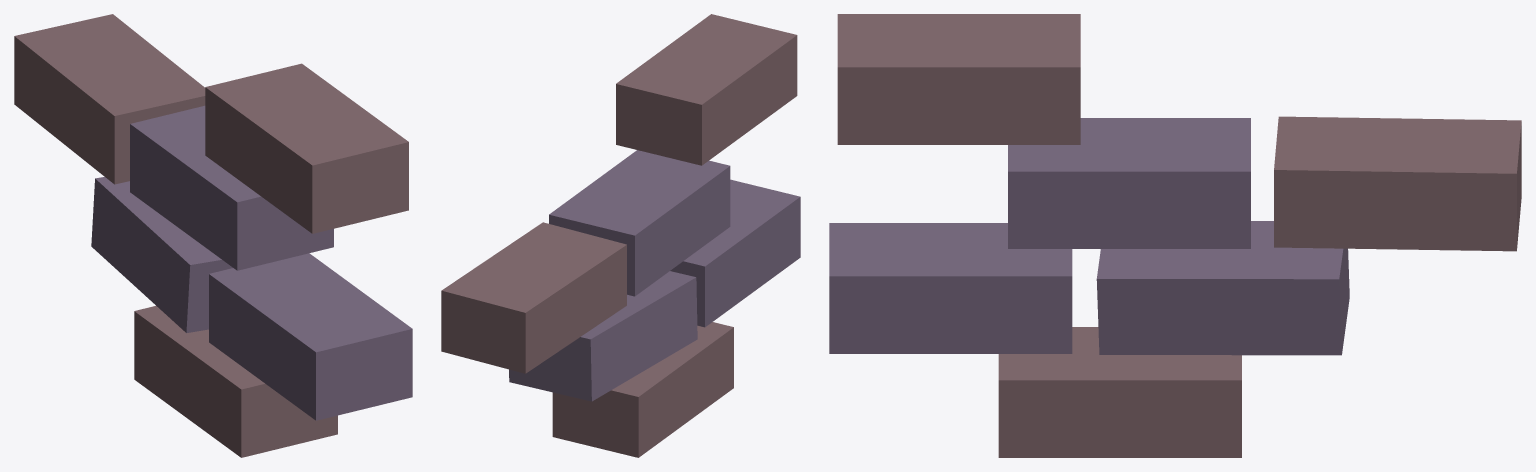
File: bricks array2.fbx
3 renders of one model, left to right at view 1: azimuth 30°, elevation 25°; view 2: azimuth 150°, elevation 25°; view 3: azimuth 270°, elevation 25°, orthographic. The views are drawn at different scales.
Visible parts, largest first — view 1: Cube.040; view 2: Cube.040; view 3: Cube.040.
Part boxes in pixels (<box>): Cube.040: <box>14,14,412,457</box>; Cube.040: <box>441,14,800,457</box>; Cube.040: <box>829,14,1521,457</box>.
Size of the model in its own units: 200 by 595 by 956.
